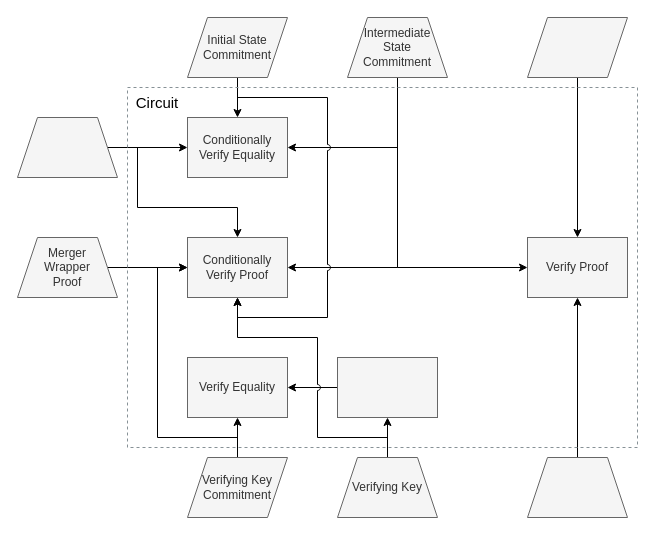
This 655x535 diagram has some shape labels left out. Each missing label, with the centre of its shape:
Final State Commitment: (577,47)
Genesis Flag: (67,147)
Macro Block Wrapper Proof: (577,487)
Pedersen Commitment: (387,387)
